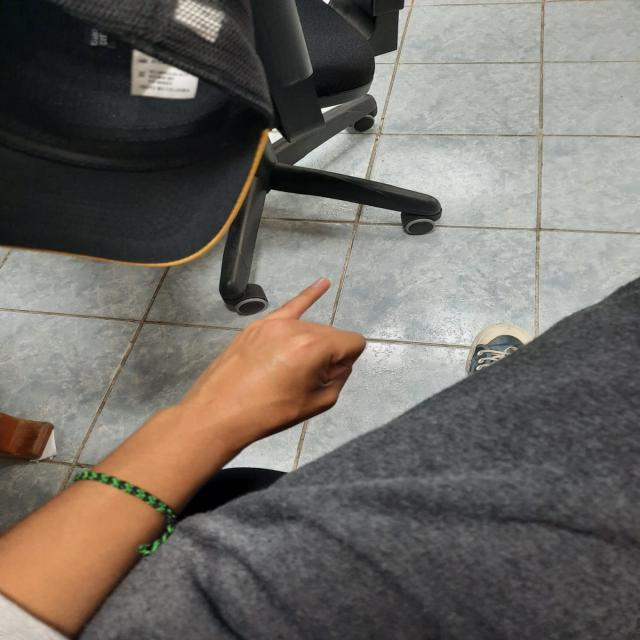Z: (178, 265, 373, 459)
